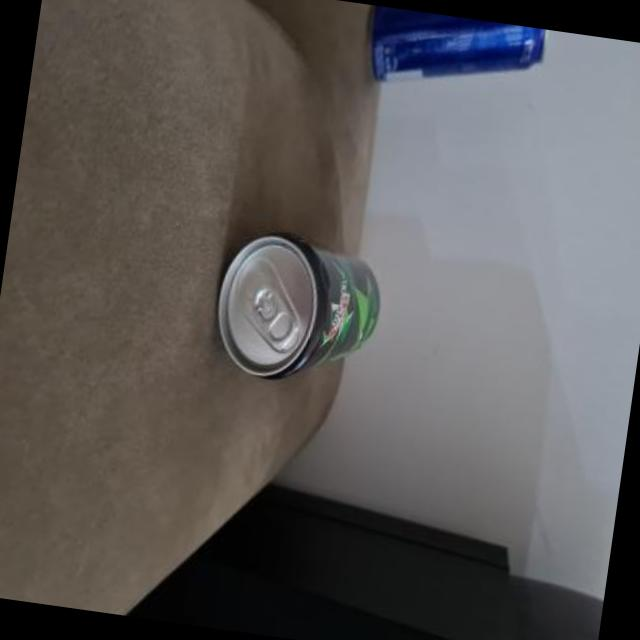metal: (221, 238, 381, 381)
